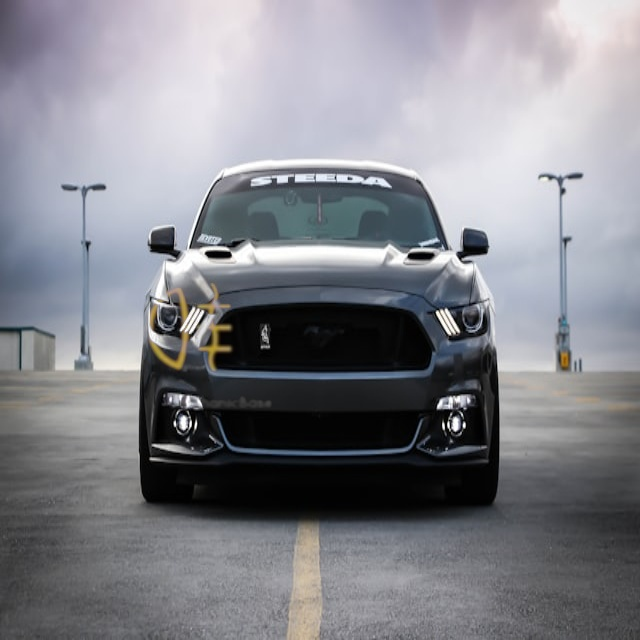symbol: (102, 240, 279, 417)
